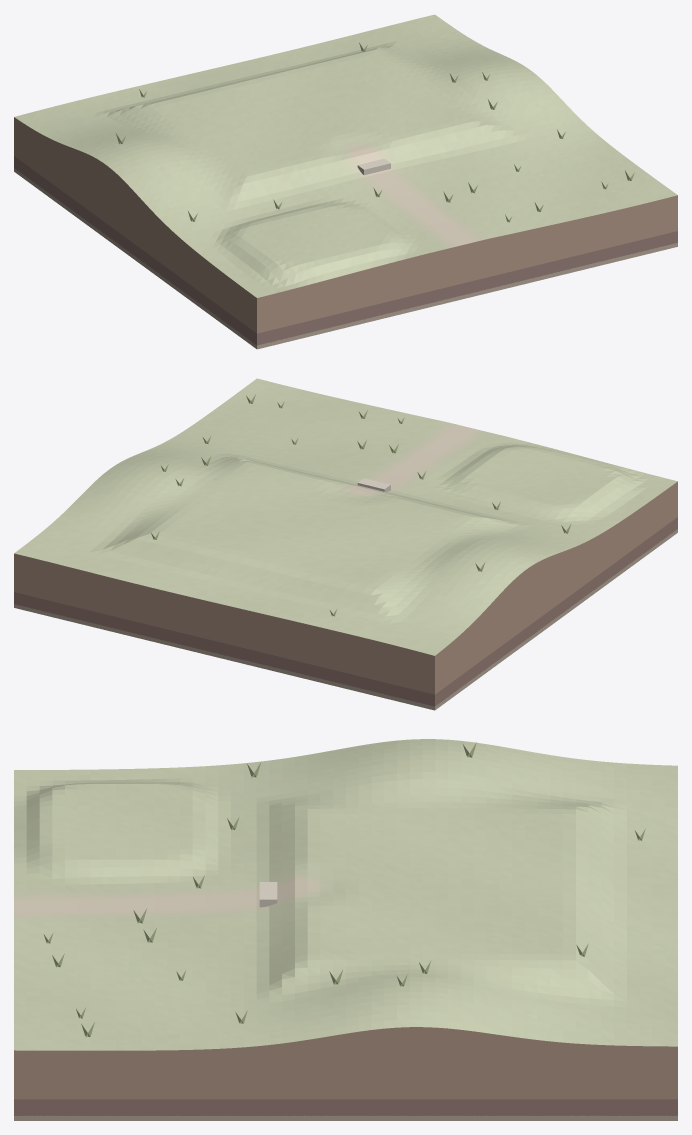
The picture shows the model from 3 angles, top to bottom: view 1: azimuth 30°, elevation 25°; view 2: azimuth 150°, elevation 25°; view 3: azimuth 270°, elevation 25°; orthographic projection. The views are drawn at different scales.
Parts seen in each view (by area): view 1: proc_ground, proc_skirt, proc_grass; view 2: proc_ground, proc_skirt, proc_grass; view 3: proc_ground, proc_skirt, proc_grass.
Boxes of the visible parts, x1,y1,x2,y2 form: proc_ground: (14, 14, 677, 297); proc_skirt: (14, 117, 677, 349); proc_grass: (116, 42, 634, 222); proc_ground: (14, 378, 677, 655); proc_skirt: (14, 481, 677, 710); proc_grass: (151, 394, 571, 616); proc_ground: (14, 739, 677, 1050); proc_skirt: (14, 1027, 677, 1120); proc_grass: (43, 742, 645, 1037).
Size of the model in its own units: 8 by 1.56 by 8.
